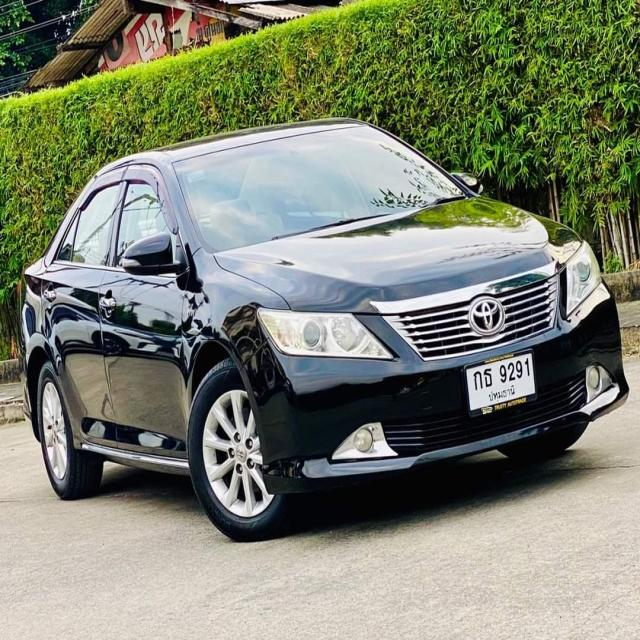license_plate: (462, 346, 540, 423)
